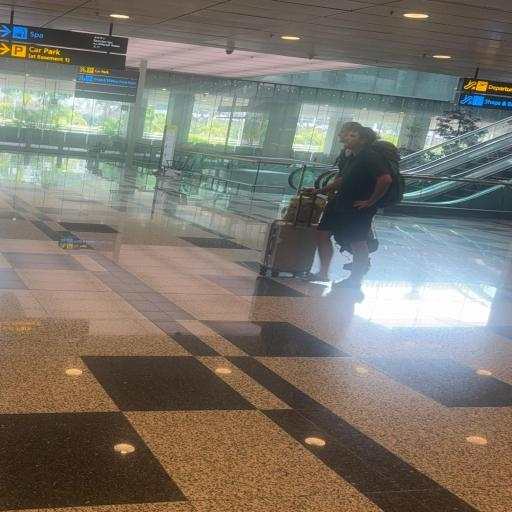person_with_luggage_left: (214, 102, 452, 299)
